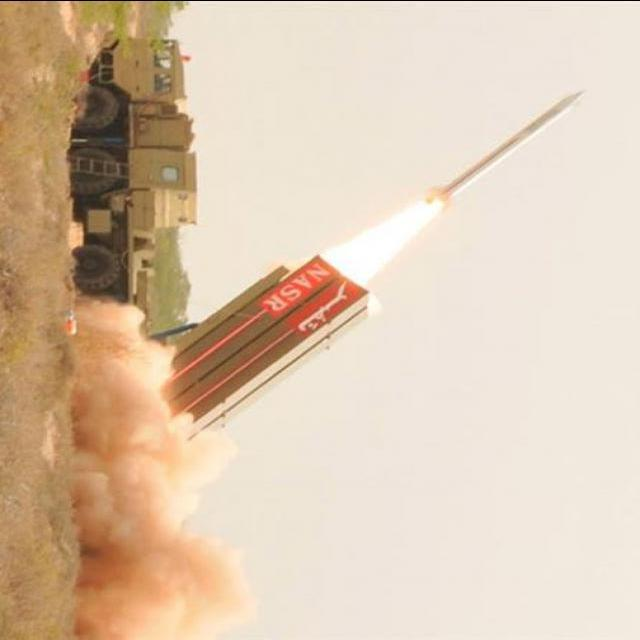missile: (420, 78, 596, 211)
